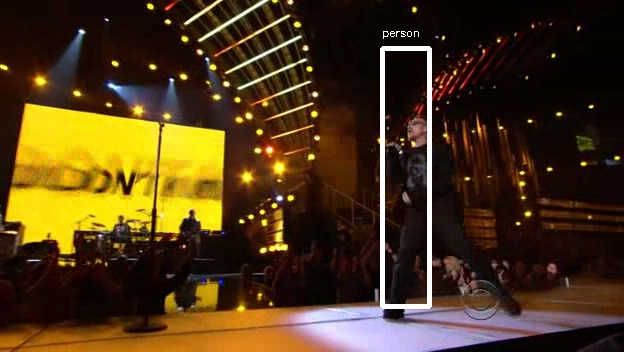person: (388, 118, 453, 226), (385, 118, 450, 226), (391, 118, 456, 226), (388, 115, 453, 223), (388, 121, 453, 229)
target_negative: (297, 23, 486, 223), (505, 26, 618, 195), (67, 5, 431, 40), (292, 318, 535, 340), (78, 317, 540, 325), (592, 132, 609, 241)
